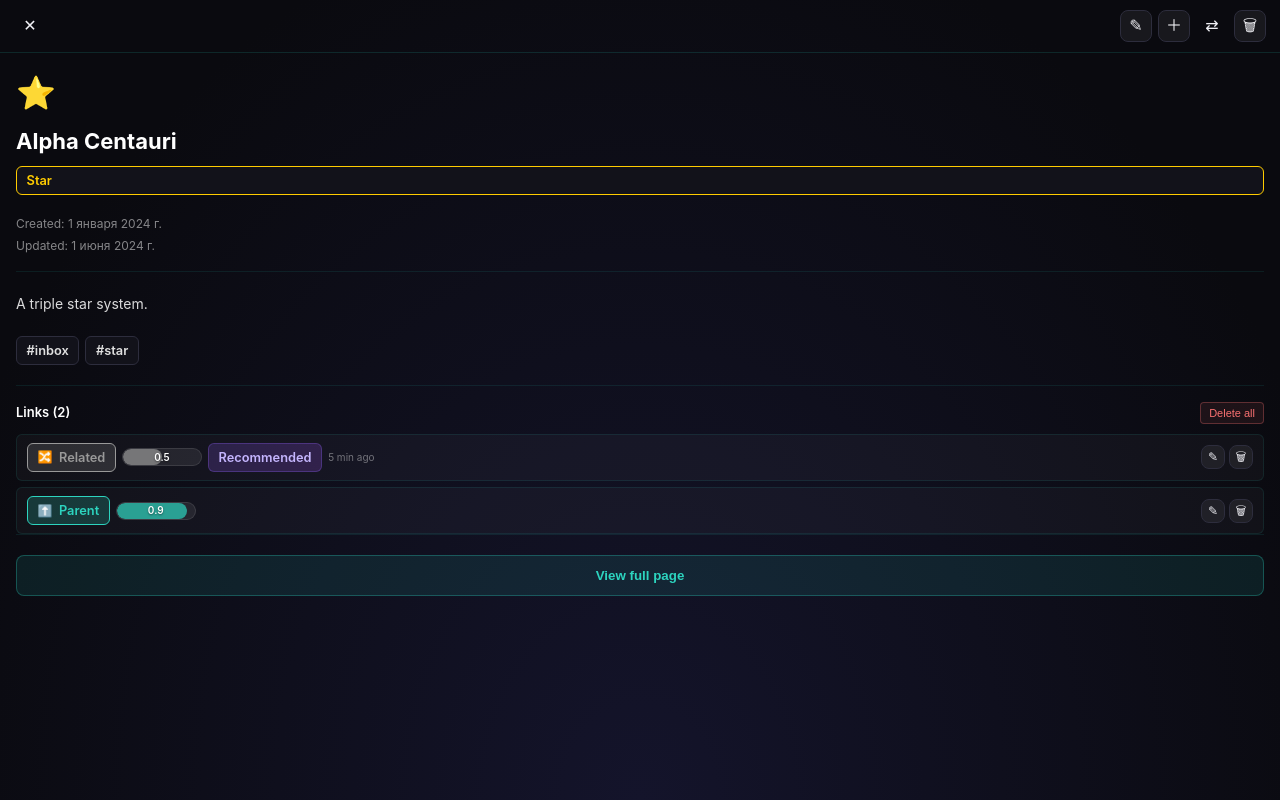
Test: CockpitNoteDetails Component › cancels delete-all confirmation
Click the button "Delete all" at (1232, 413), box [1200, 402, 1264, 424]
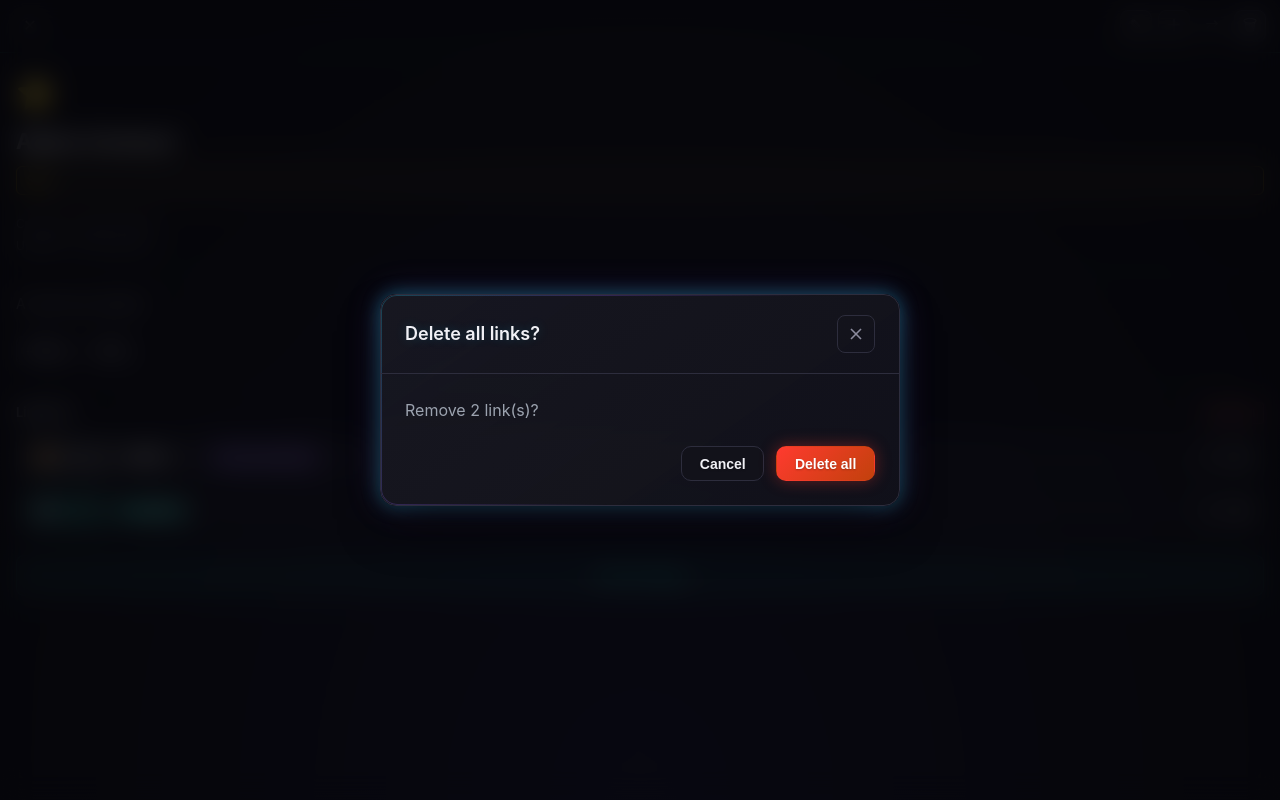
Expected: the button with test id "confirm-modal-cancel" is shown
Click the button with test id "confirm-modal-cancel" at (723, 464), box [681, 446, 764, 481]
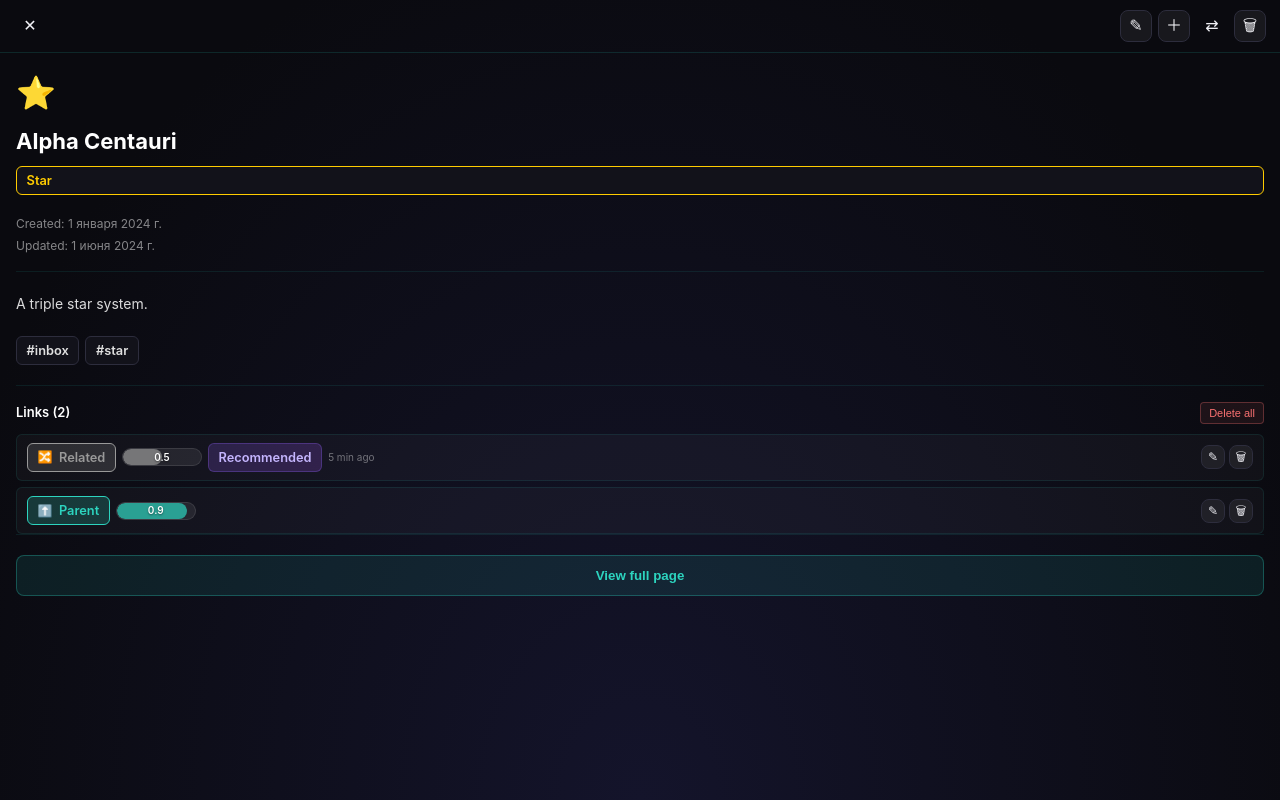
Expected: the button with test id "confirm-modal-confirm" is gone
